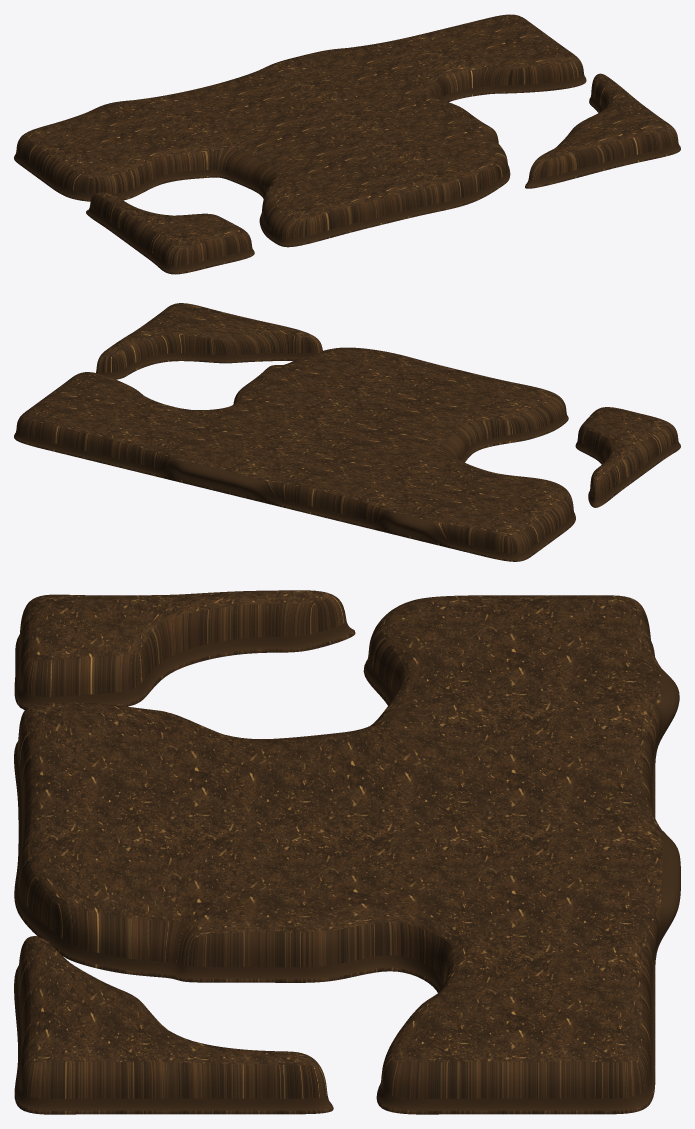
File: BgUnderTest2.fbx
3 views of the same model, one above another, from view 1: azimuth 30°, elevation 25°; view 2: azimuth 150°, elevation 25°; view 3: azimuth 270°, elevation 25° (orthographic). The views are drawn at different scales.
Visible parts, largest first — view 1: Plan; view 2: Plan; view 3: Plan.
Boxes of the visible parts, x1=… form: Plan: x1=14, y1=14, x2=680, y2=274; Plan: x1=14, y1=303, x2=680, y2=561; Plan: x1=14, y1=590, x2=680, y2=1114.
Size of the model in its own units: 8459 by 413 by 4914.
1 material, 1 textured.
